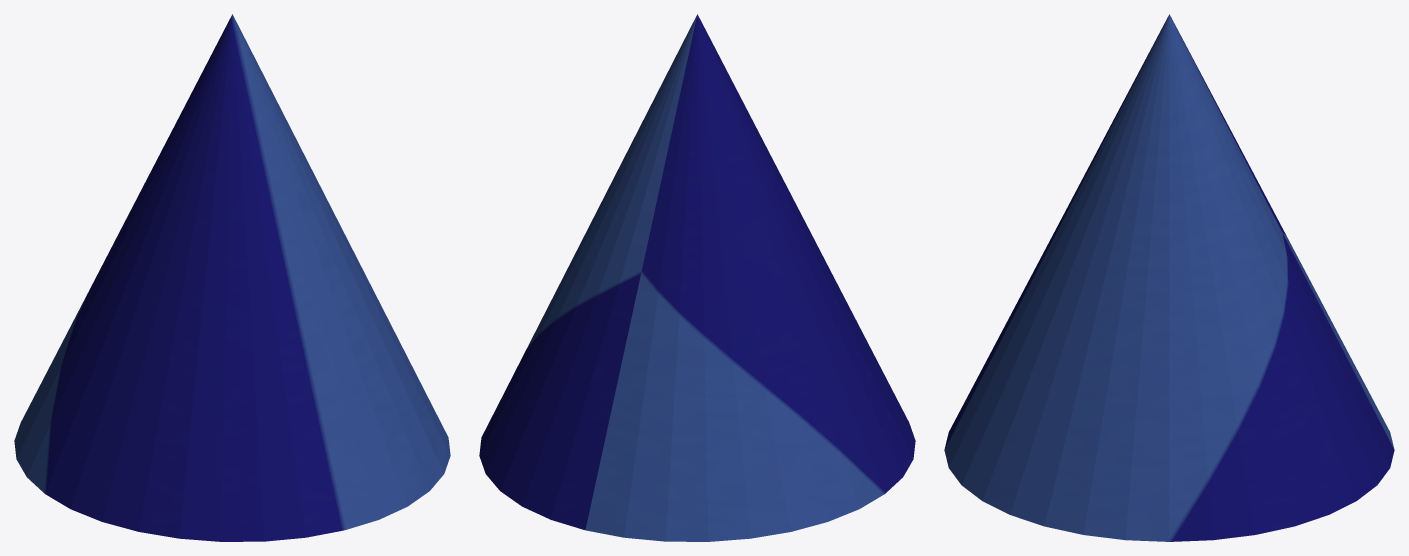
3 renders of one model, left to right at view 1: azimuth 30°, elevation 25°; view 2: azimuth 150°, elevation 25°; view 3: azimuth 270°, elevation 25°, orthographic.
Visible parts, largest first — view 1: geometry_0; view 2: geometry_0; view 3: geometry_0.
Part boxes in pixels (<box>): geometry_0: <box>14,14,450,541</box>; geometry_0: <box>479,14,915,541</box>; geometry_0: <box>944,14,1394,541</box>.
Bounding box in the file's own units: 2.77 × 3.06 × 2.86.
Materials: 1 (1 with a texture image).
